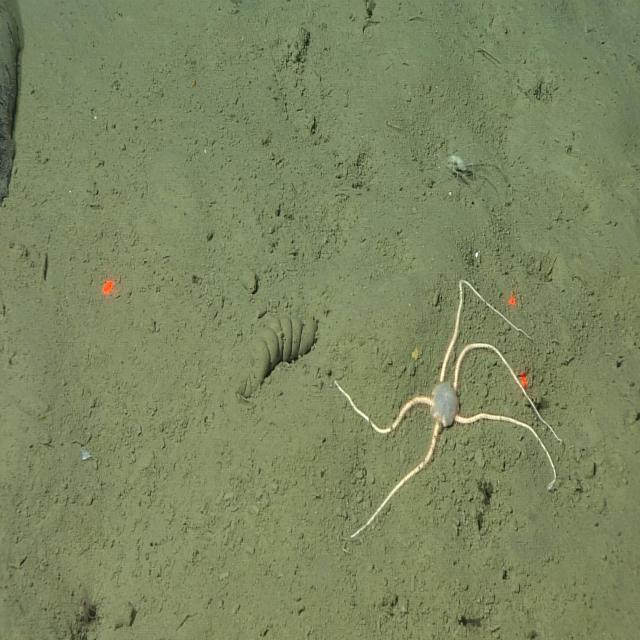Brittle Star: (329, 271, 566, 550)
Not Brittle Star: (429, 122, 503, 202)
